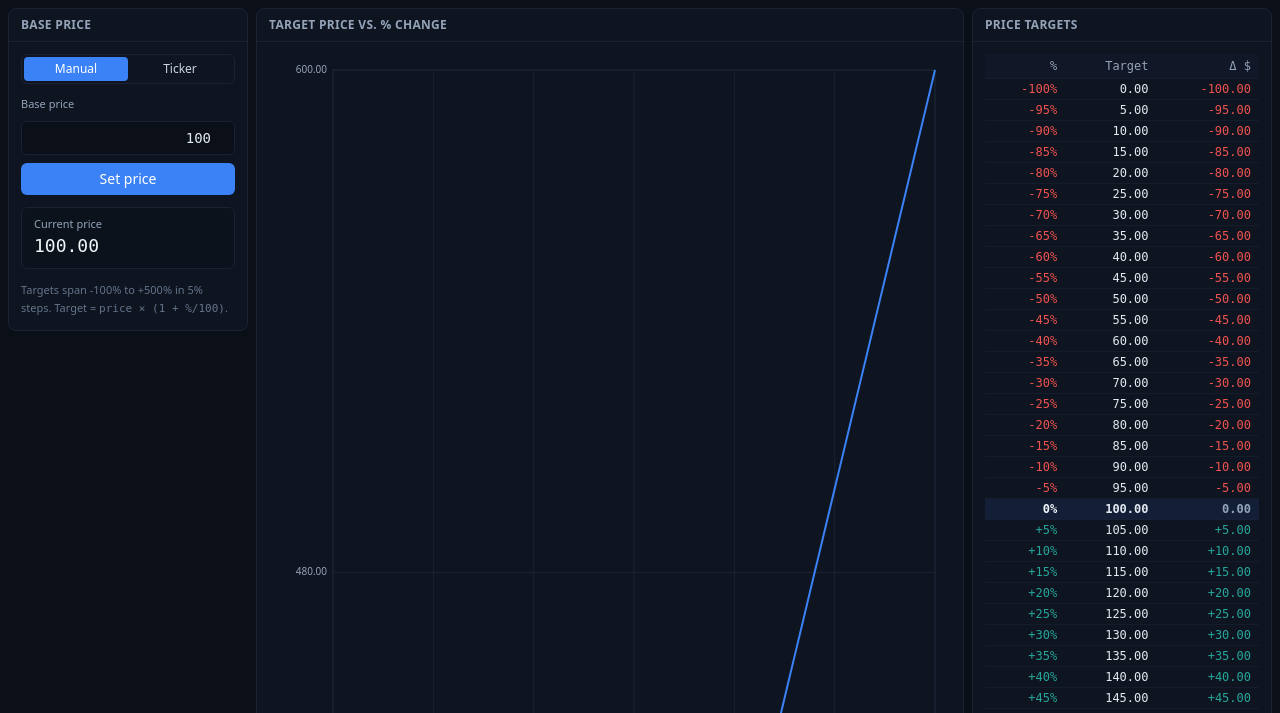
PriceTargetWorkspace › resolves a base price from a ticker via the sample fallback
Click the button "Ticker".
click(180, 69)  # box [128,57,232,81]
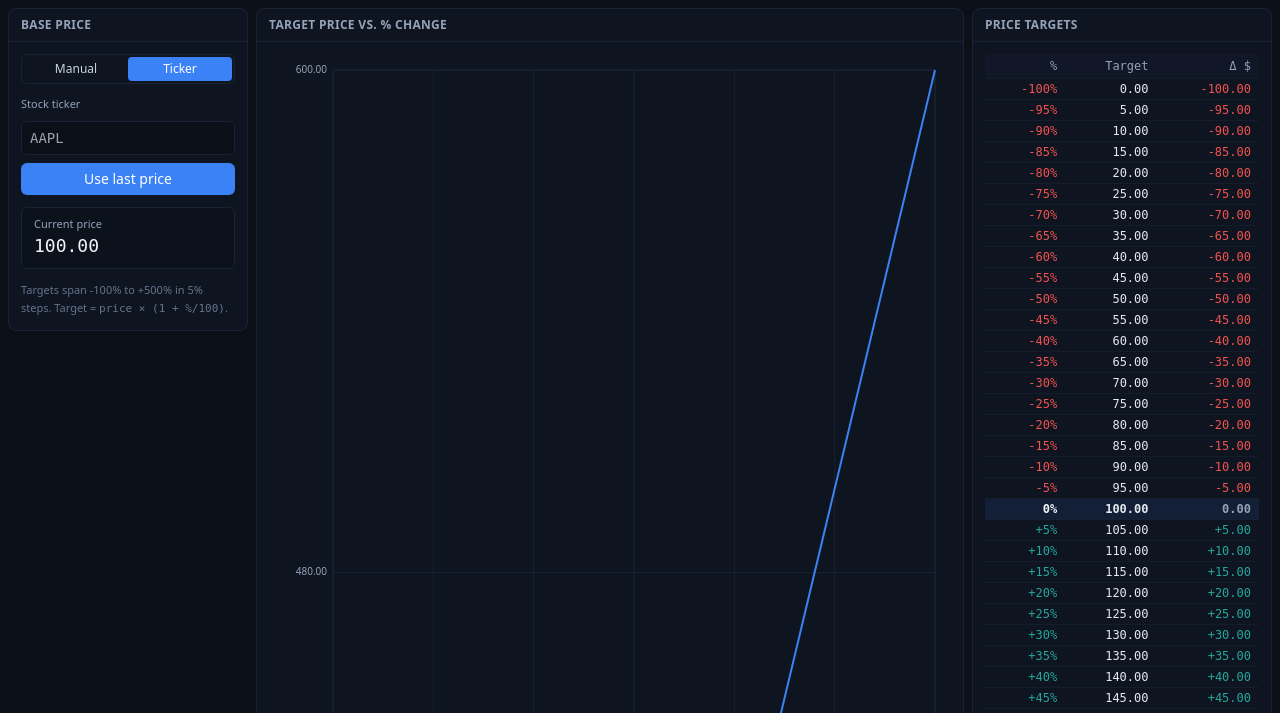
Type "aapl" into the field labelled "Stock ticker".
click(128, 138); type("aapl")  # box [21,120,235,154]
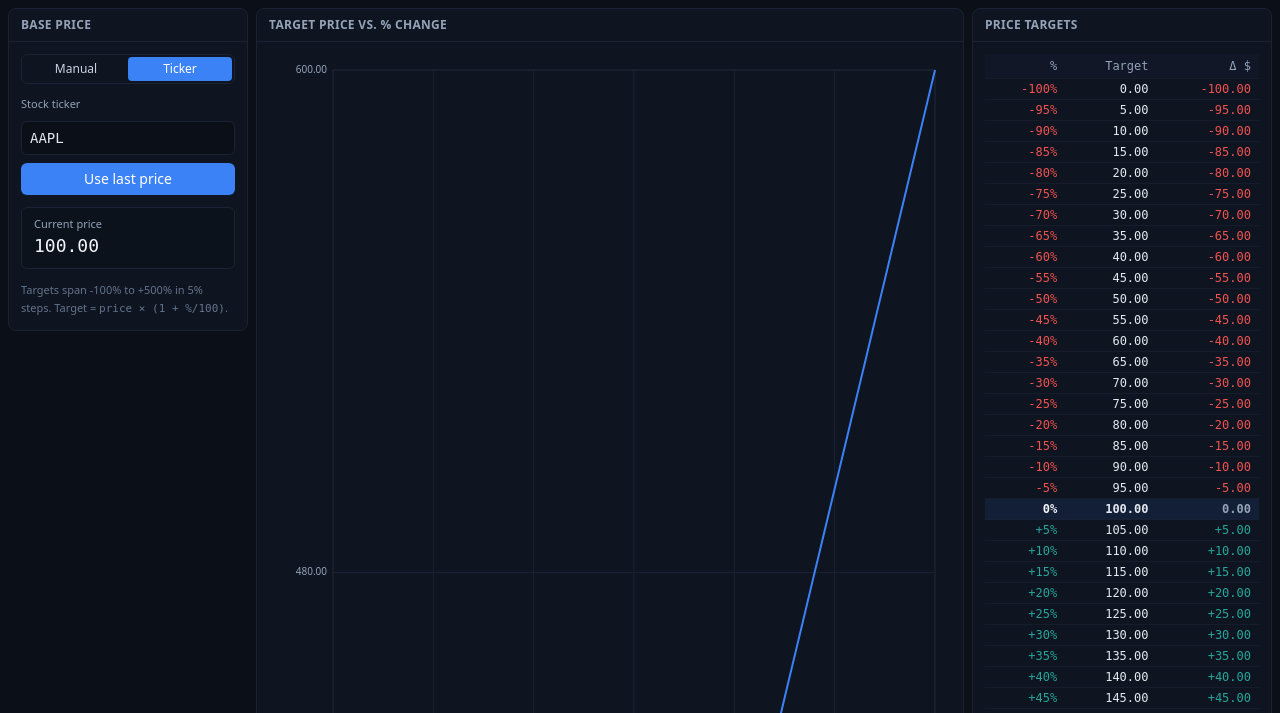
Click the button "Use last price".
click(128, 178)  # box [21,162,235,194]
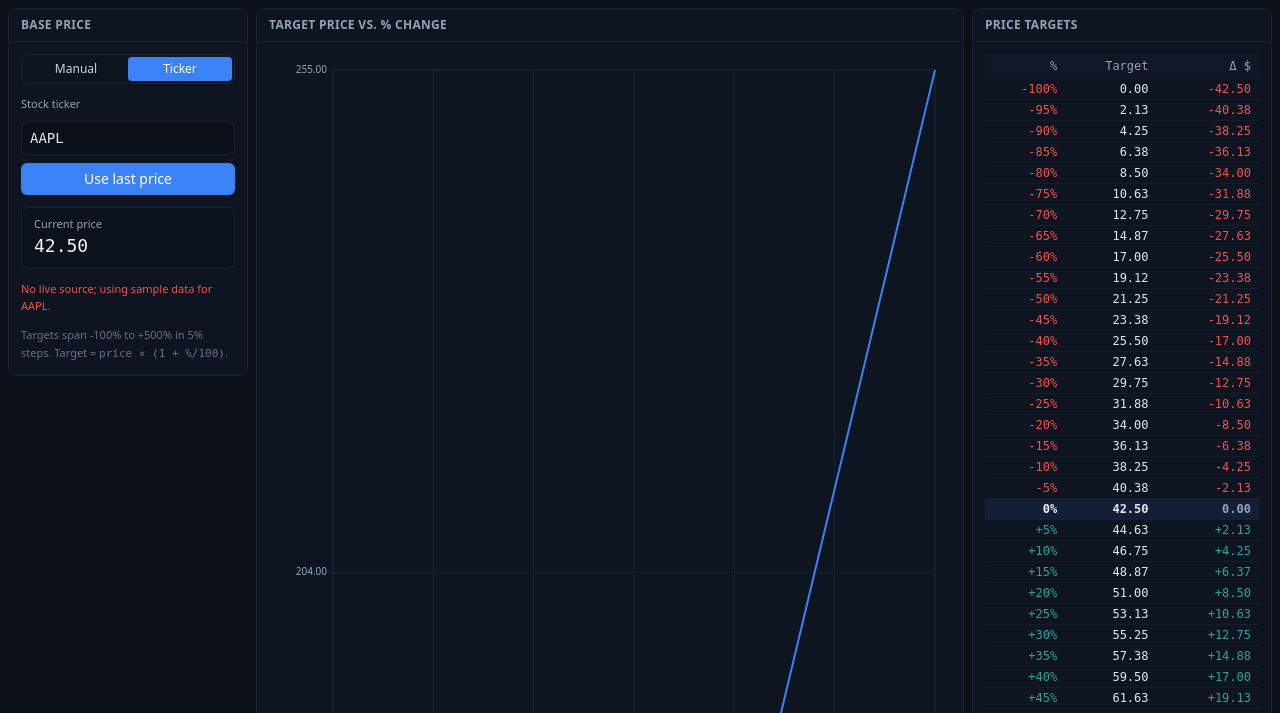
Now the text "42.50" is shown, box [34,235,88,256]
